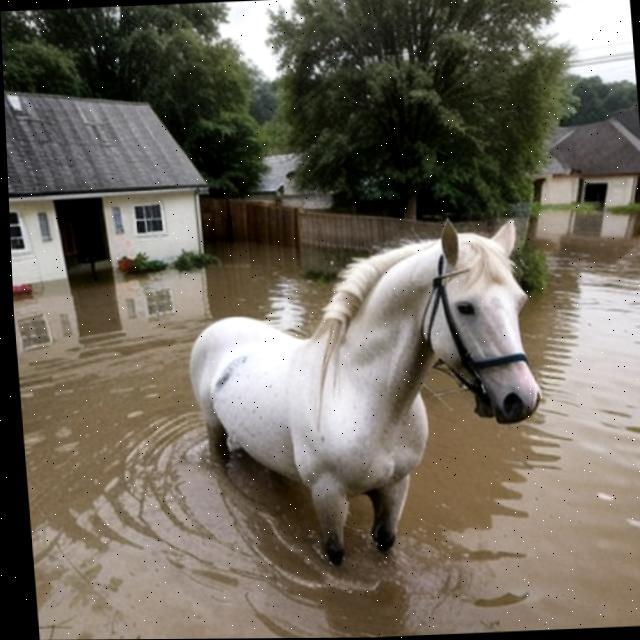horse: (162, 184, 565, 588)
